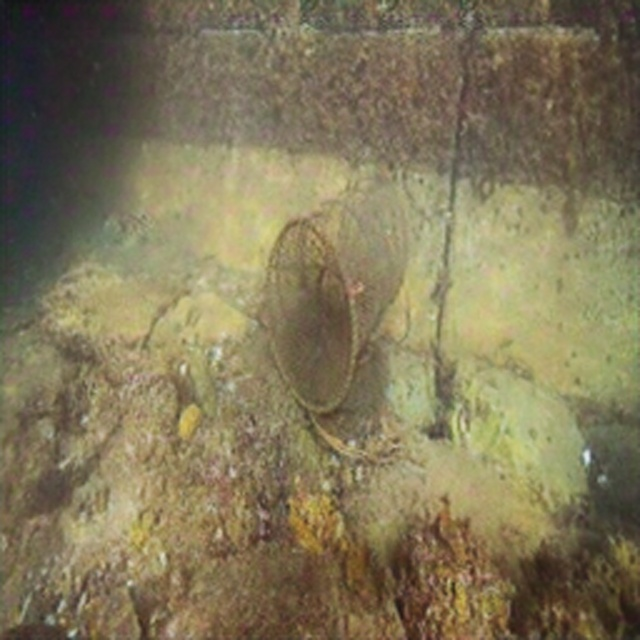mine: (265, 164, 409, 412)
